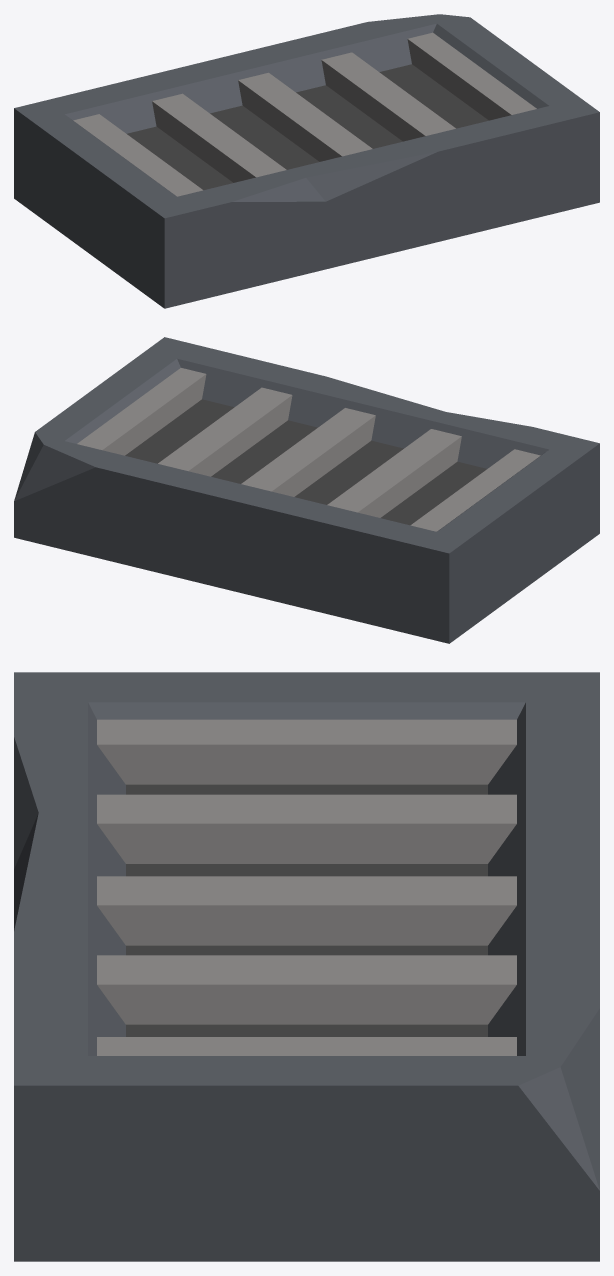
File: SM_Prop_Drain_01.fbx
3 renders of one model, top to bottom at view 1: azimuth 30°, elevation 25°; view 2: azimuth 150°, elevation 25°; view 3: azimuth 270°, elevation 25°, orthographic. The views are drawn at different scales.
Parts seen in each view (by area): view 1: SM_Prop_Drain_01; view 2: SM_Prop_Drain_01; view 3: SM_Prop_Drain_01.
Boxes of the visible parts, bbox=[...] form: SM_Prop_Drain_01: bbox=[14, 14, 599, 308]; SM_Prop_Drain_01: bbox=[14, 337, 599, 643]; SM_Prop_Drain_01: bbox=[14, 672, 599, 1261].
Size of the model in its own units: 63.01 by 12.5 by 37.75.
